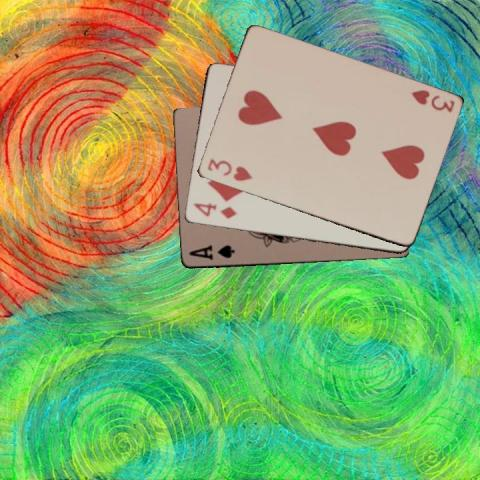3h: (204, 156, 253, 183), (408, 87, 456, 114)
4d: (191, 200, 238, 220)
As: (185, 242, 236, 261)
